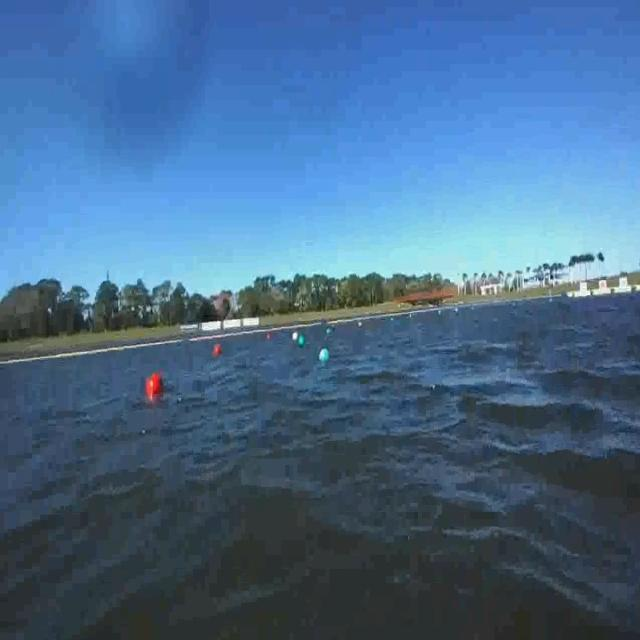green-buoy: (322, 347, 332, 363), (297, 336, 304, 349)
red-buoy: (148, 372, 164, 395), (214, 344, 222, 357)
